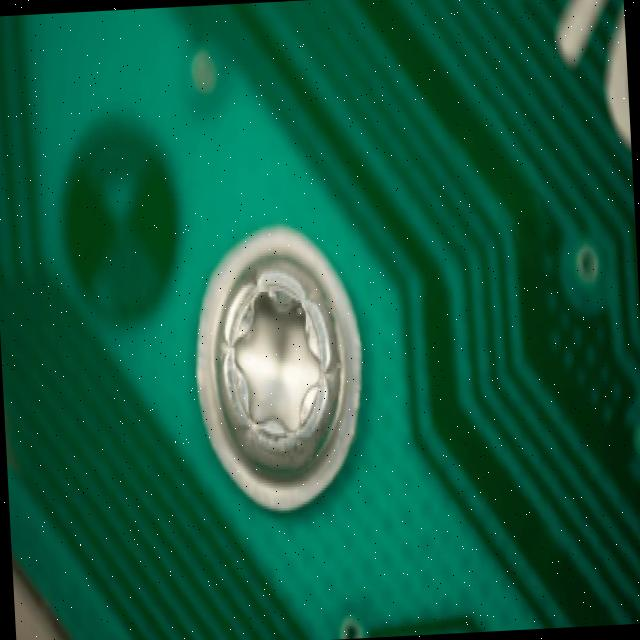Torx: (212, 252, 351, 483)
